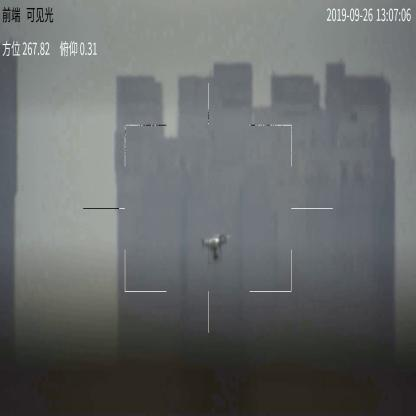uav: (195, 235, 230, 263)
